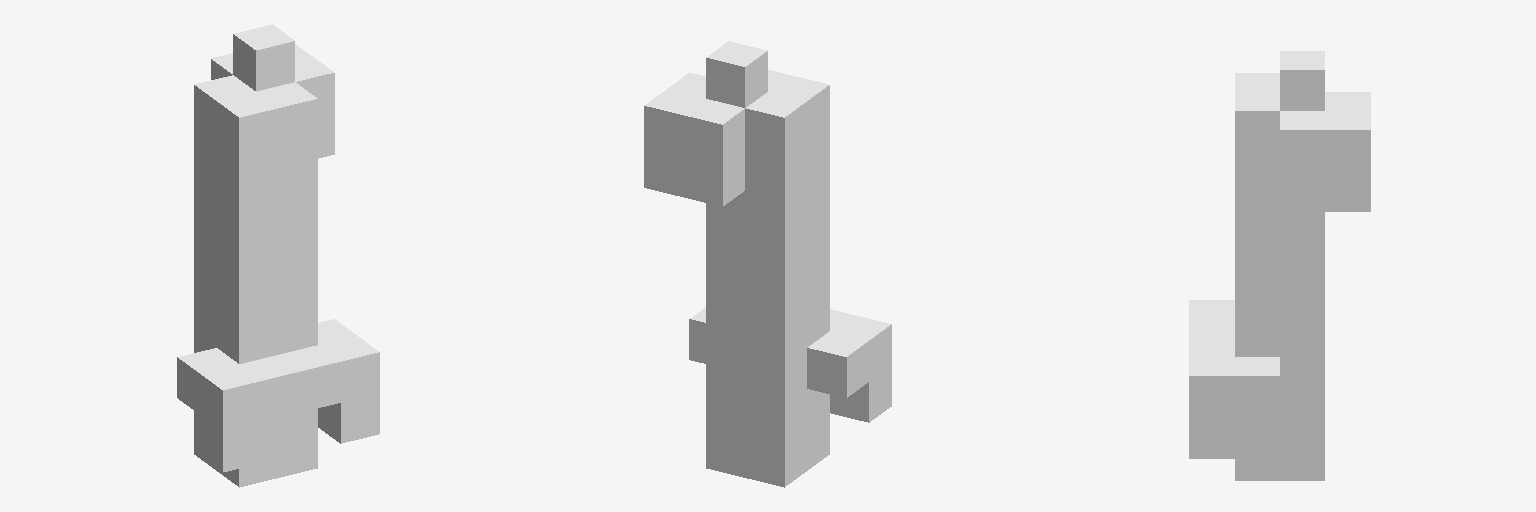
File: Leg-0.obj
3 renders of one model, left to right at view 1: azimuth 30°, elevation 25°; view 2: azimuth 150°, elevation 25°; view 3: azimuth 270°, elevation 25°, orthographic.
Visible parts, largest first — view 1: object 1; view 2: object 1; view 3: object 1.
Part boxes in pixels (x1,y1,x2,y2): object 1: (177, 24, 379, 487); object 1: (644, 41, 891, 487); object 1: (1189, 51, 1370, 480).
Size of the model in its own units: 0.4 by 1 by 0.4.